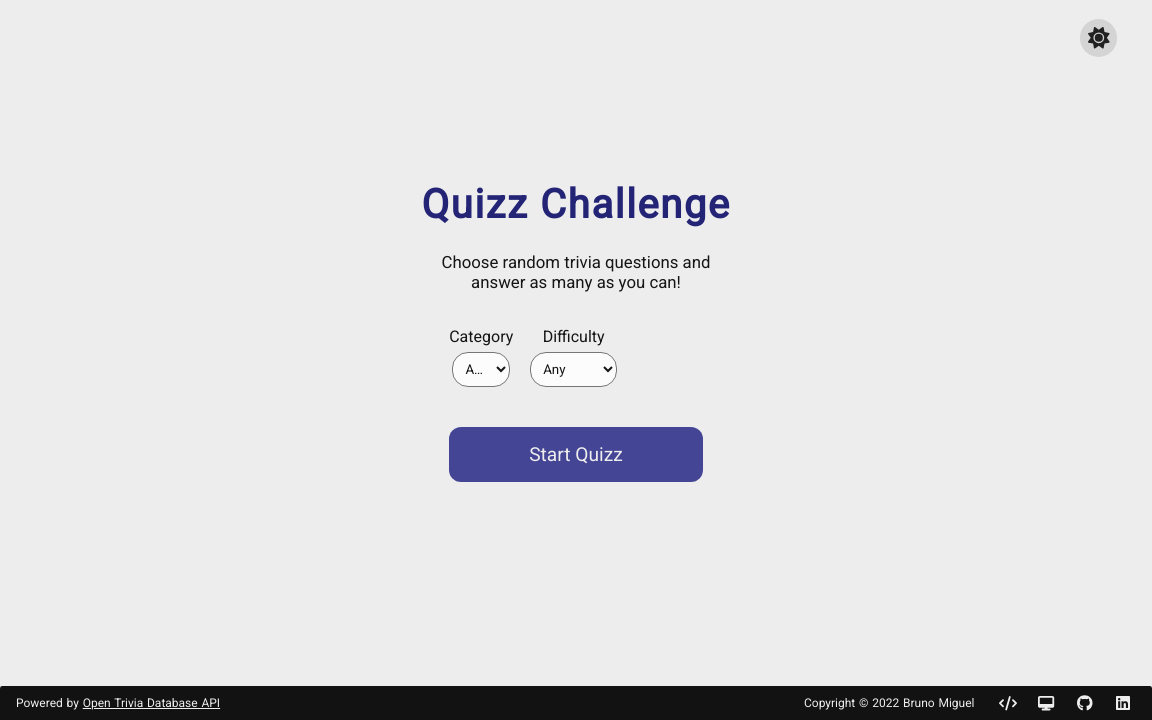
Test: quizz game page should be rendered when "Start Quizz" button is clicked
The width and height of the screenshot is (1152, 720).
Select "Any" in the dropdown labelled "Category": (481, 369) [452,352,510,387]
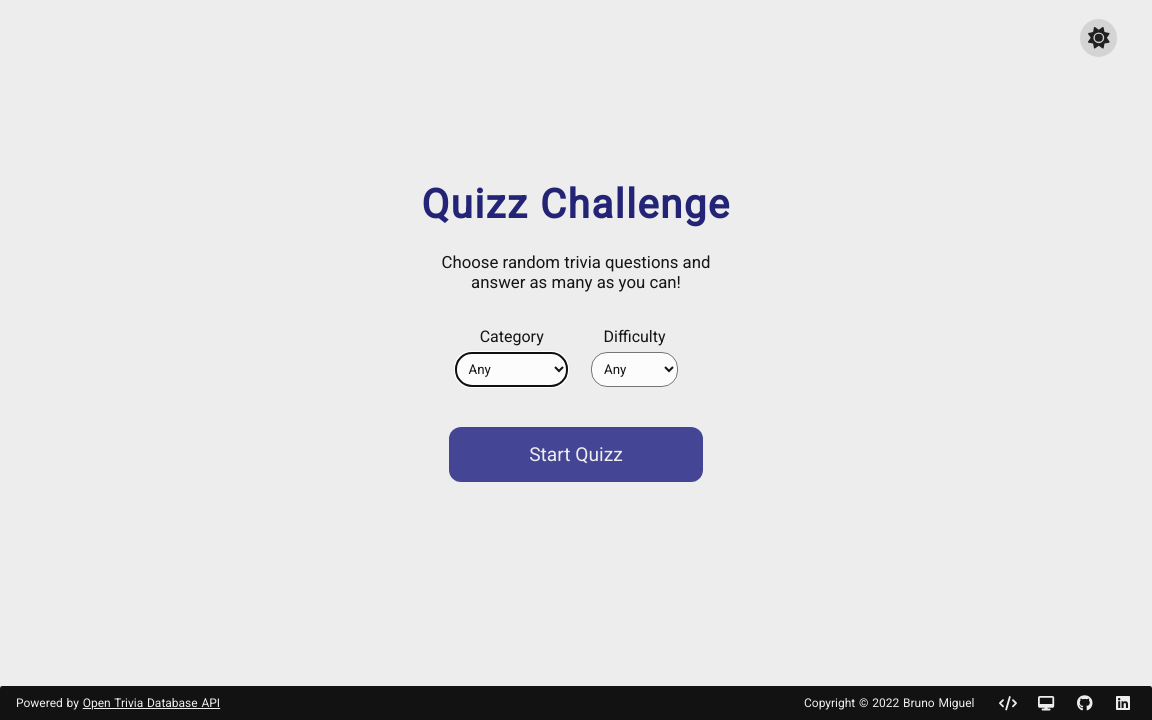
Select "Any" in the dropdown labelled "Difficulty": (635, 369) [591,352,678,387]
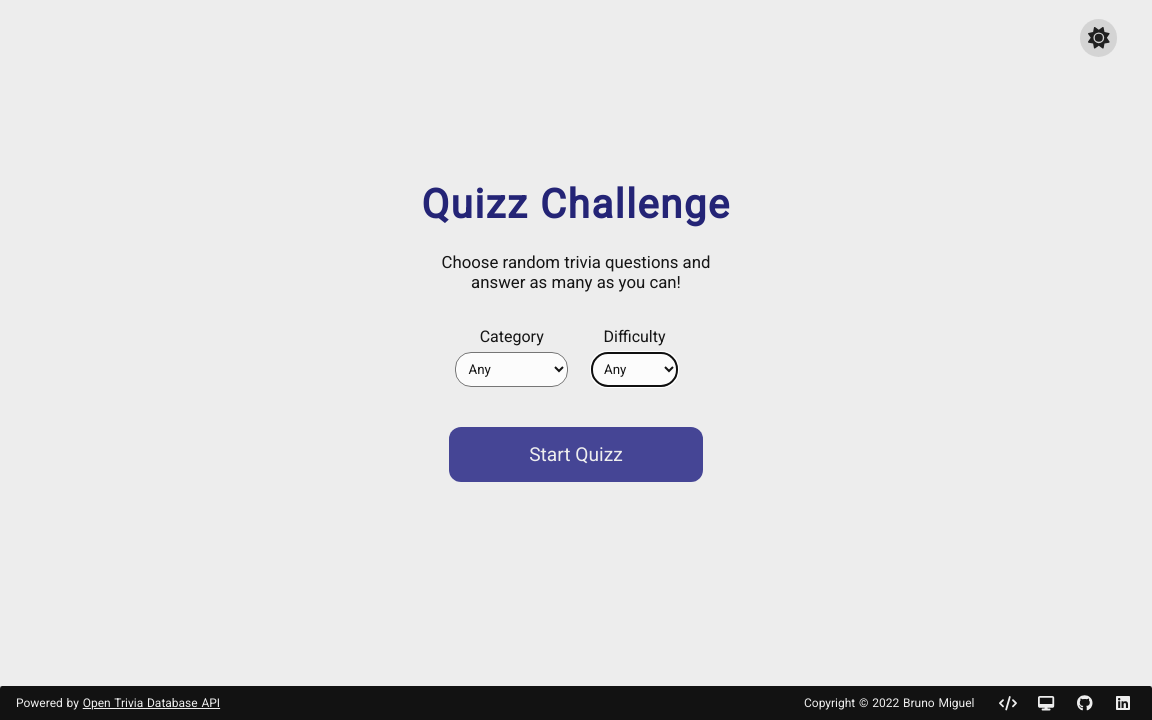
Click the button "Start Quizz": (576, 454) [449,427,703,482]
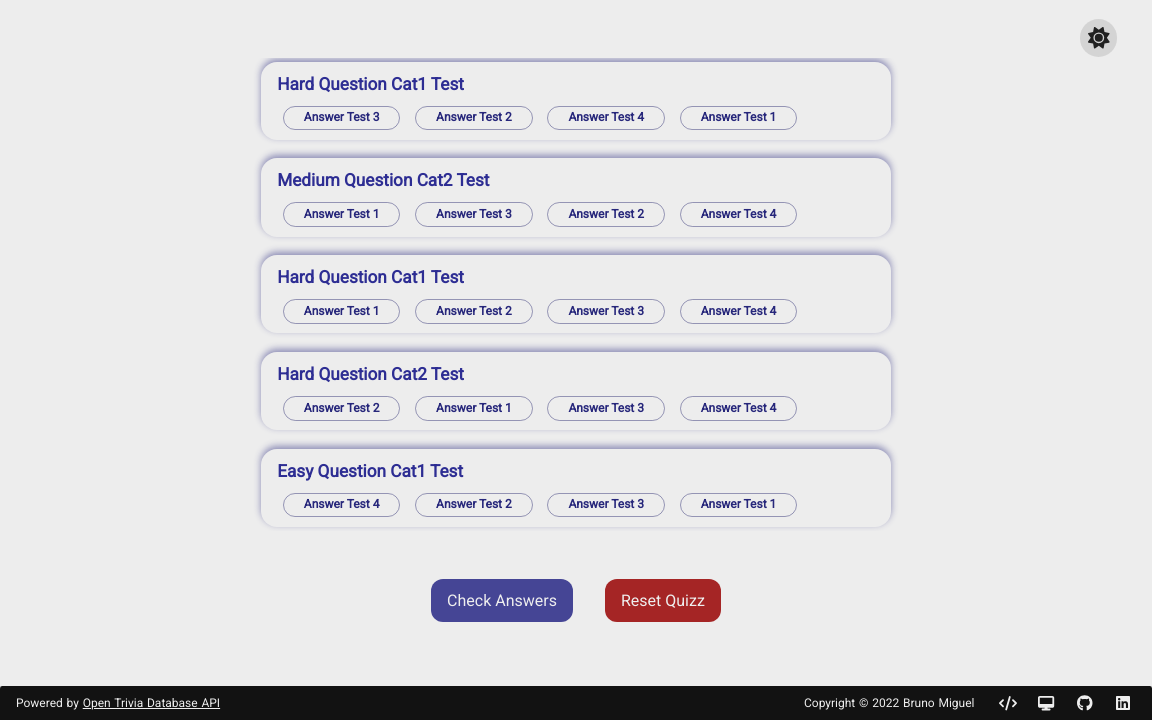
Check: the button "Start Quizz" is gone
Check: the button "Check Answers" is shown, box [431,579,573,622]
Check: the button "Reset Quizz" is shown, box [605,579,721,622]
